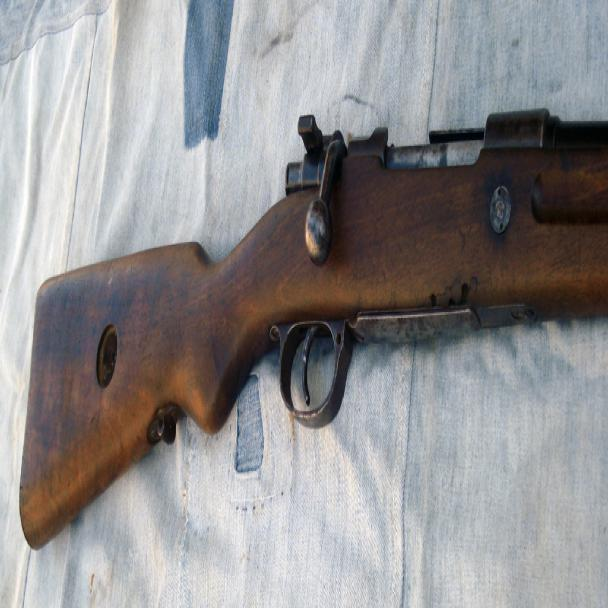Gun: (19, 102, 607, 550)
